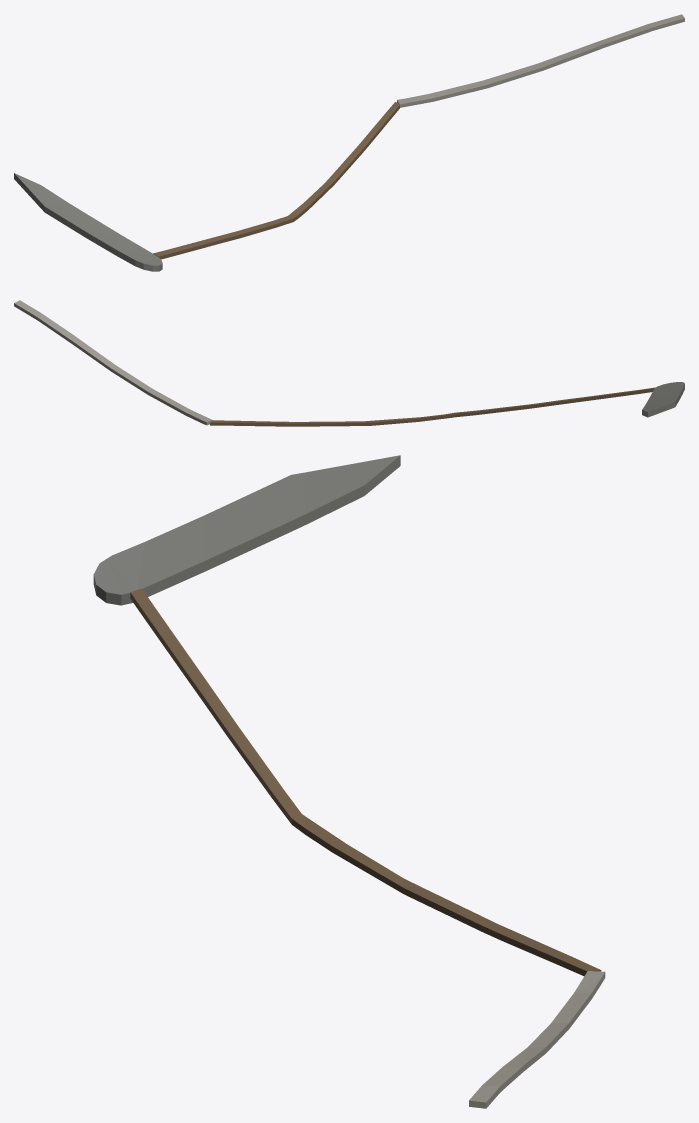
3 renders of one model, top to bottom at view 1: azimuth 30°, elevation 25°; view 2: azimuth 150°, elevation 25°; view 3: azimuth 270°, elevation 25°, orthographic. The views are drawn at different scales.
Size of the model in its own units: 143 by 18.04 by 51.63.
